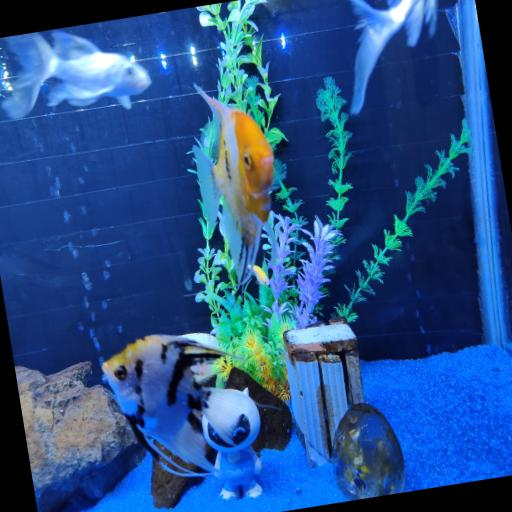Fish: (102, 335, 248, 473), (192, 85, 273, 286), (1, 31, 150, 119), (348, 0, 437, 114), (248, 265, 269, 285)
